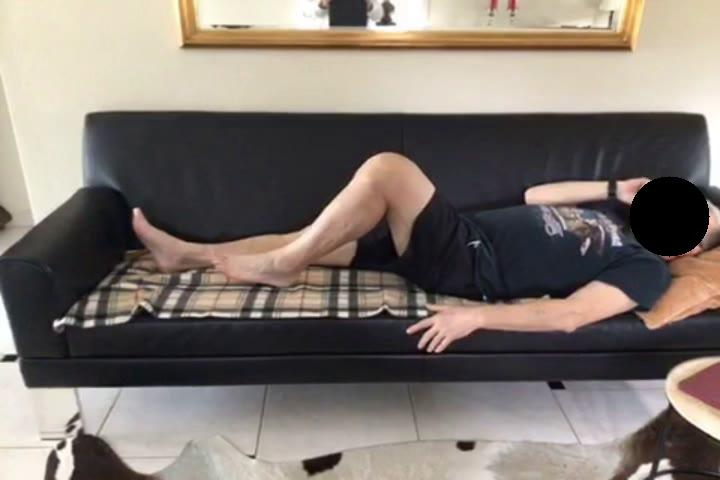lower_body: (134, 151, 505, 304)
